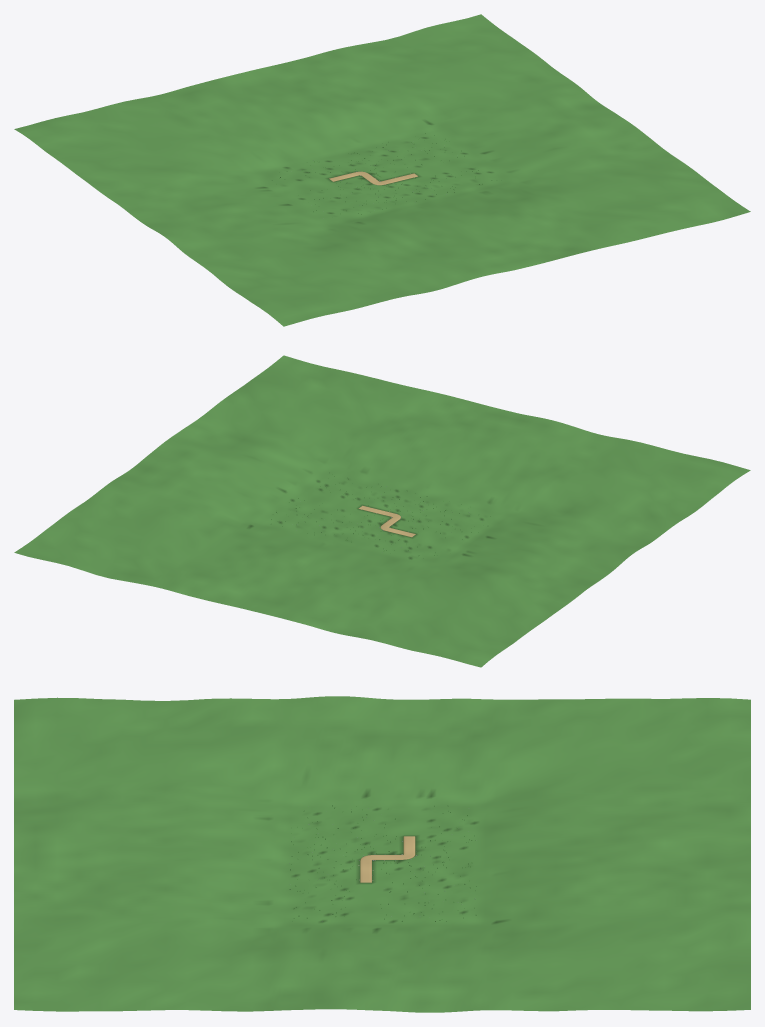
File: level_01_terrain.glb
3 renders of one model, top to bottom at view 1: azimuth 30°, elevation 25°; view 2: azimuth 150°, elevation 25°; view 3: azimuth 270°, elevation 25°, orthographic. The views are drawn at different scales.
Visible parts, largest first — view 1: Terrain; view 2: Terrain; view 3: Terrain.
Part boxes in pixels (<box>): Terrain: <box>14,14,750,326</box>; Terrain: <box>14,355,750,667</box>; Terrain: <box>14,696,750,1012</box>.
Size of what is drawn, in the model's own units: 68 by 1.28 by 68.
Materials: 1 (1 with a texture image).
